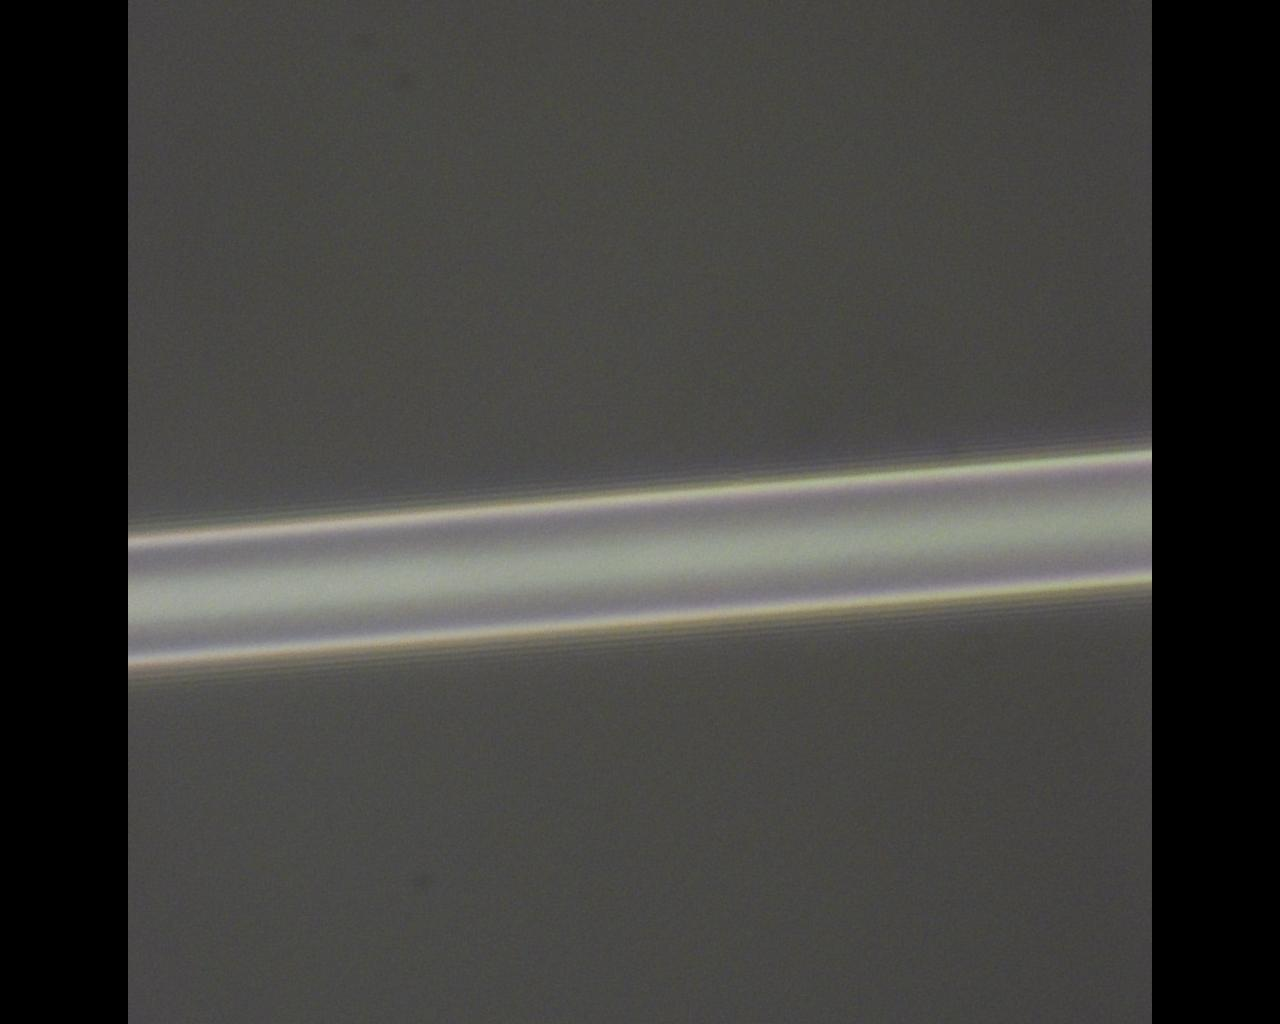fiber: (127, 445, 1151, 673)
